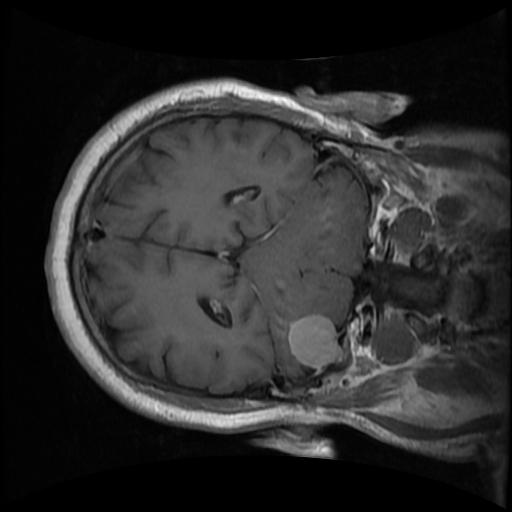meningioma: (288, 315, 341, 373)
